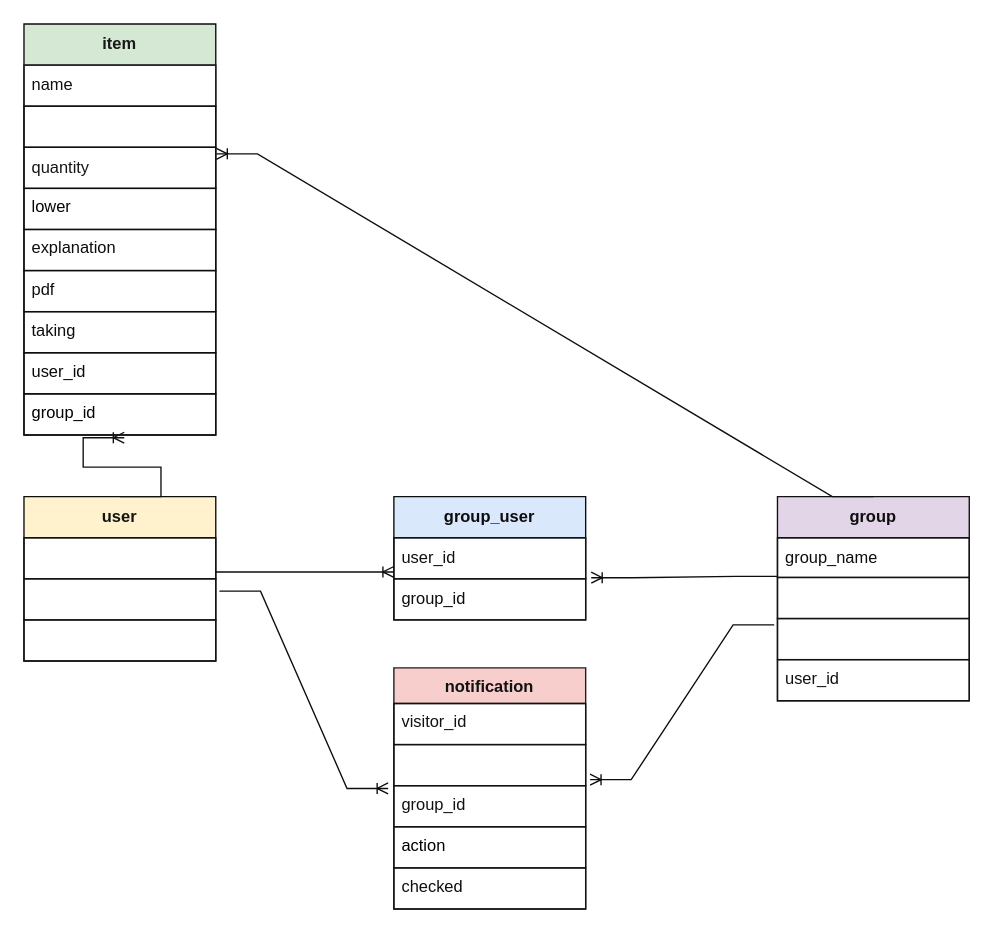
Some shapes in this 993 by 937 pixel diagram are drawn without their labels. The centre of each missing label's shape, as x and y in pixels:
email: pixel 119 598
introduction: pixel 872 597
nickname: pixel 119 557
owner_id: pixel 872 638
password: pixel 119 640
storage: pixel 119 126
visited_id: pixel 489 764
